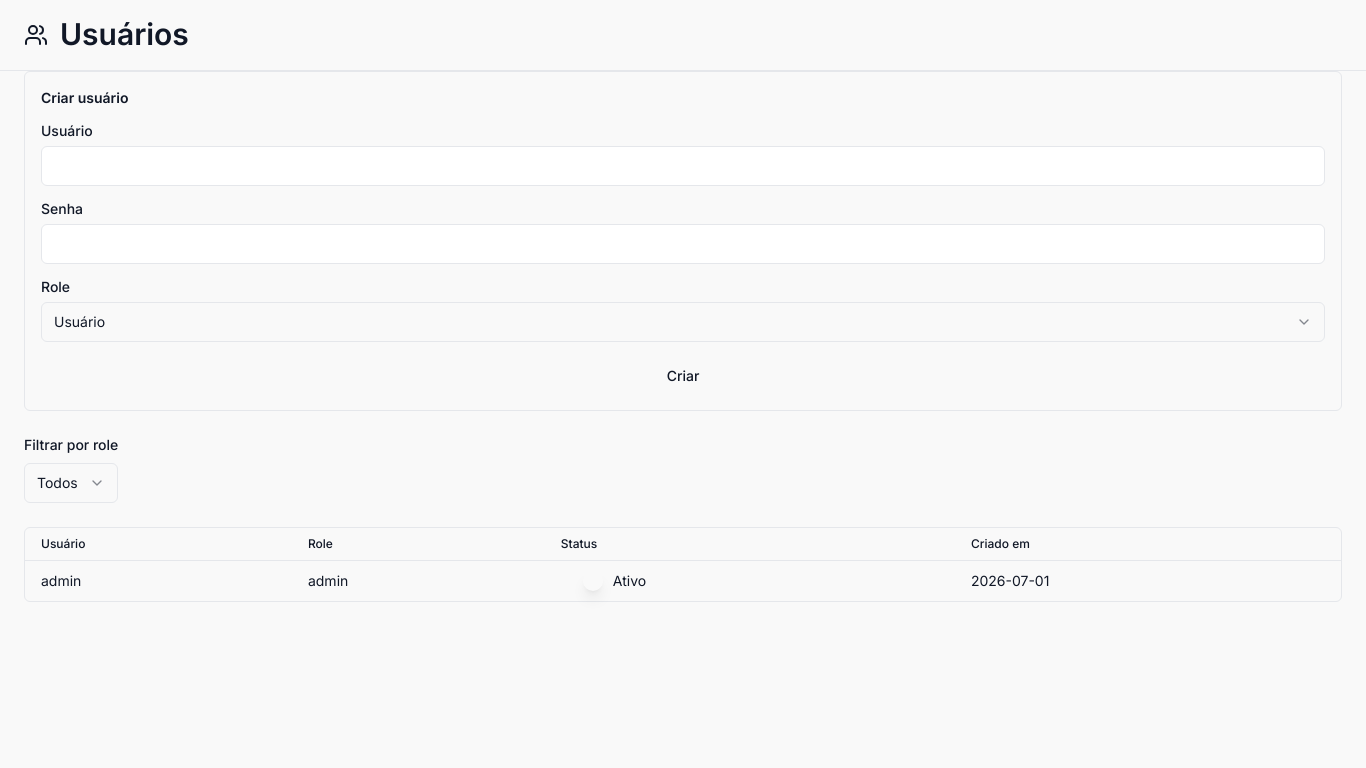
Test: UsersPage — create form (user-management-frontend-3 / REQ-003) › unit-2: REQ-003 — a 422 response displays the error inline and does NOT clear the fields the user already filled in
Expected: the table is shown, [25,528,1341,600]
In the field labelled "Usuário": point(683, 166) [41,146,1325,186], type "carol"
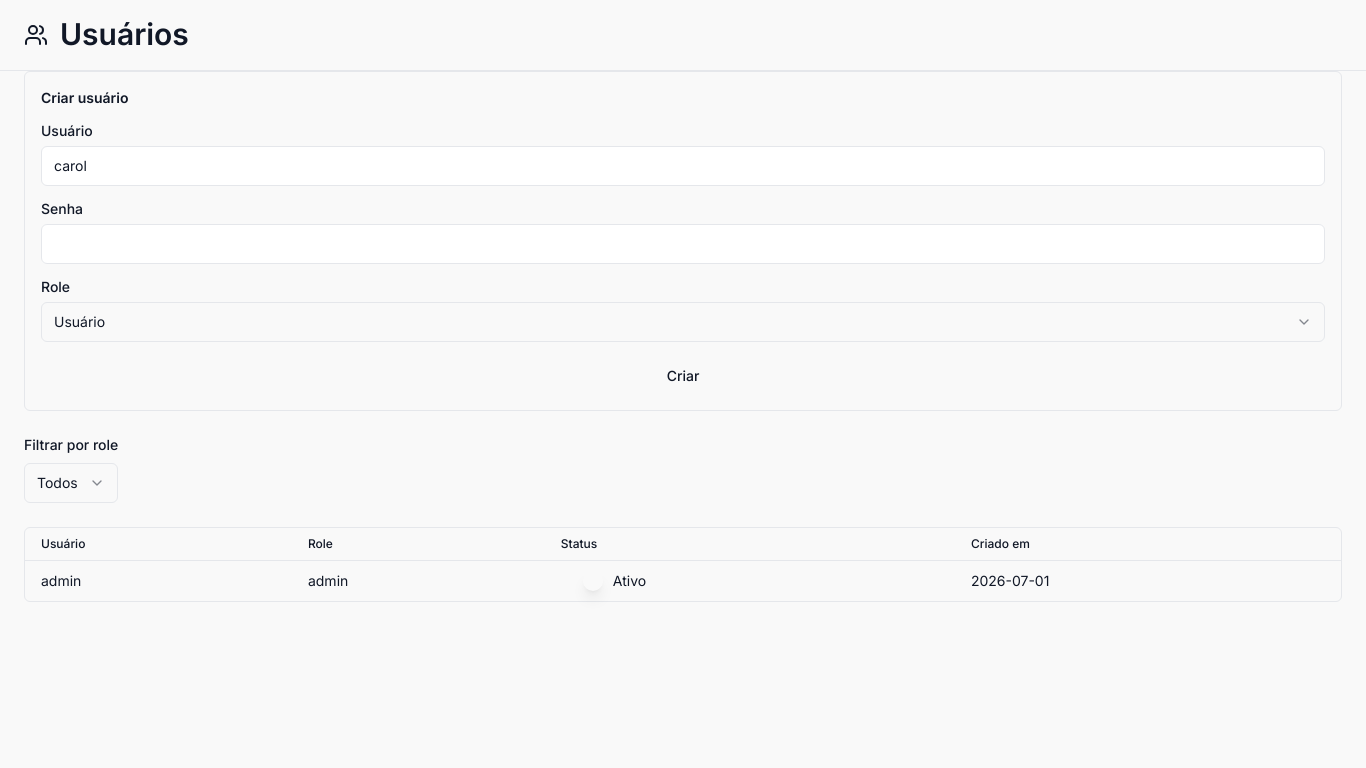
In the password field labelled "Senha": point(683, 244) [41,224,1325,264], type "short"
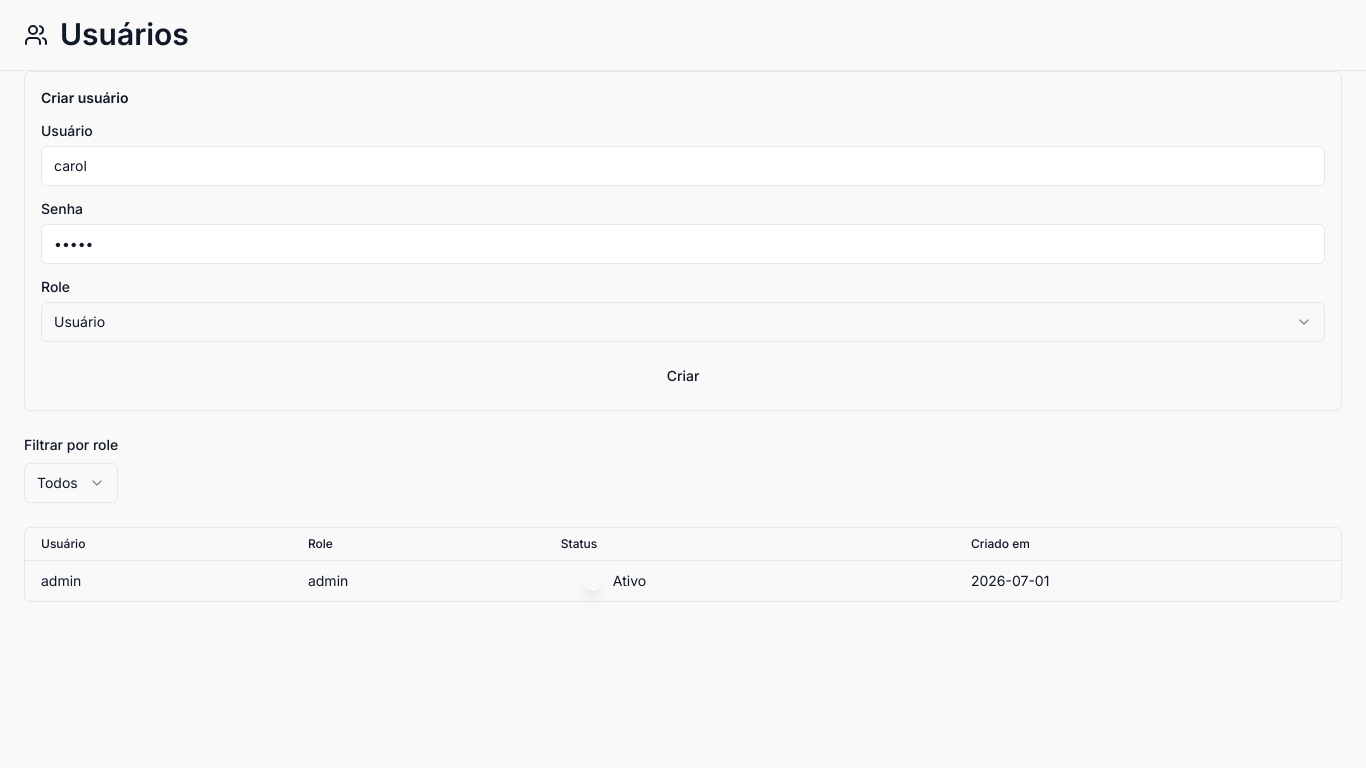
Click the button "Criar": point(683, 376) [41,358,1325,394]
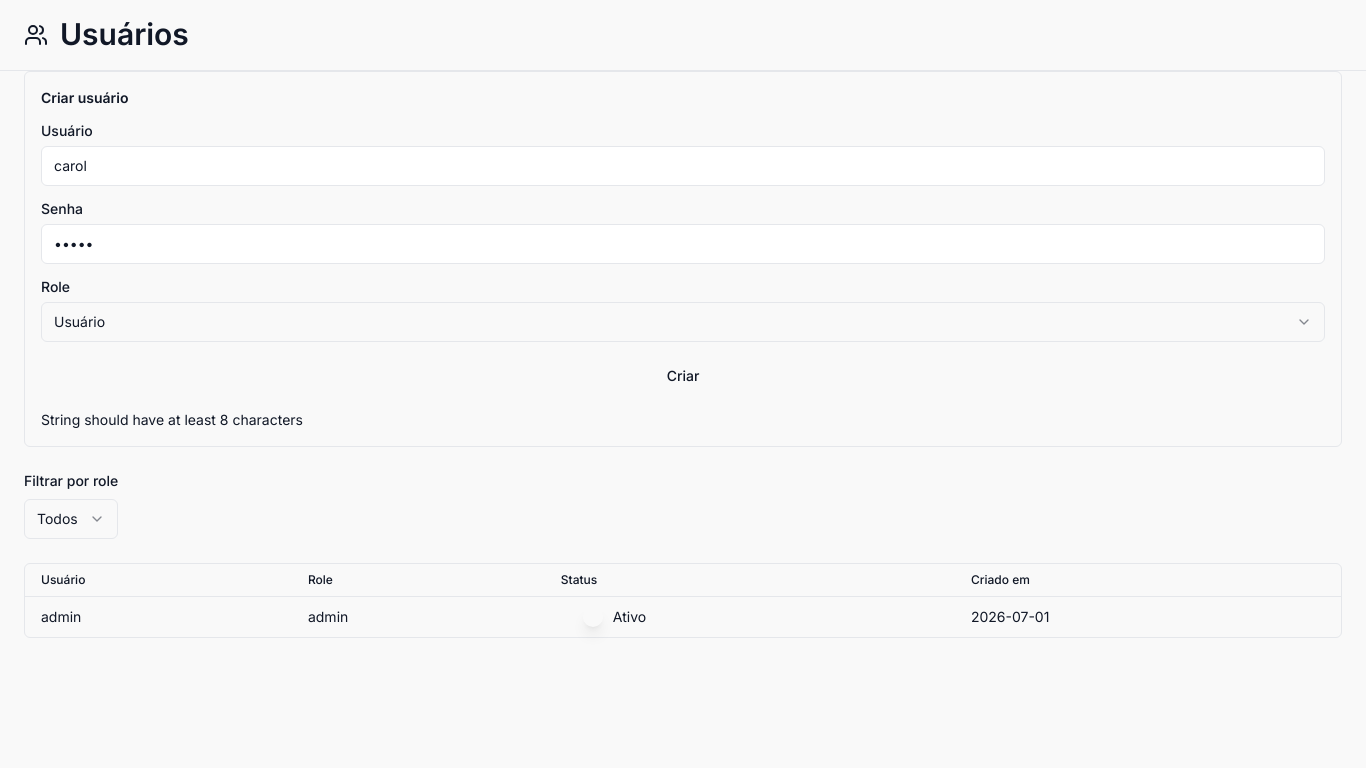
Now the message shows "8", box [41,410,303,428]
